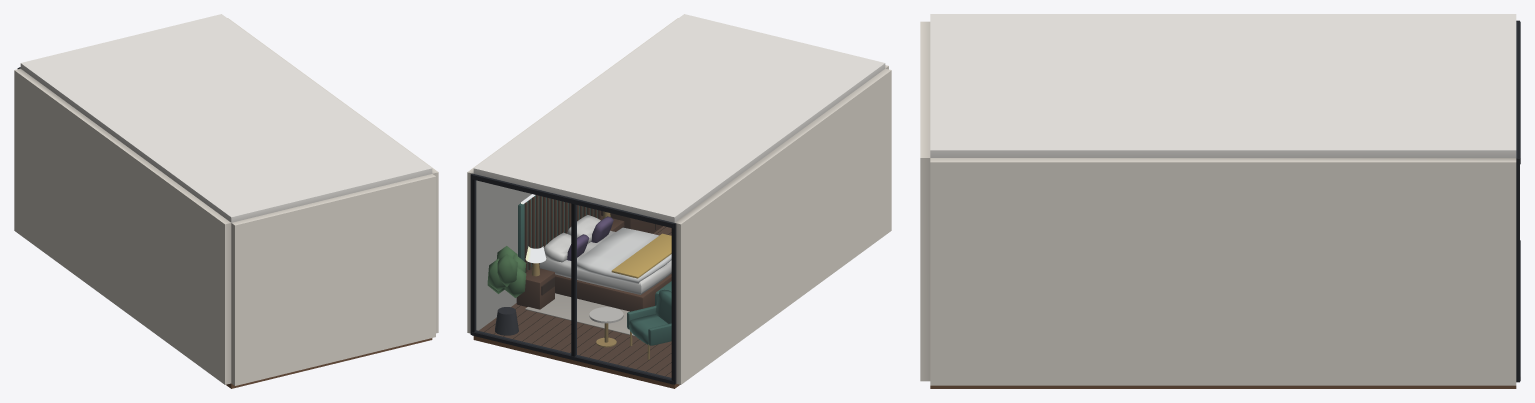
Rendered from os-standard.glb.
3 views of the same model, side by side, from view 1: azimuth 30°, elevation 25°; view 2: azimuth 150°, elevation 25°; view 3: azimuth 270°, elevation 25° (orthographic). The views are drawn at different scales.
Parts seen in each view (by area): view 1: Room_wall, Room_ceiling, Room_floor; view 2: Room_ceiling, Room_wall, Room_glass, Room_floor, Room_wood, Room_frameDark, Room_linen, Room_duvet, Room_fabric2, Room_leaf, Room_rug, Room_throw (+6 smaller); view 3: Room_wall, Room_ceiling, Room_floor, Room_frameDark.
Part boxes in pixels (x1=…): Room_wall: x1=14, y1=18, x2=438, y2=385; Room_ceiling: x1=20, y1=14, x2=432, y2=222; Room_floor: x1=226, y1=338, x2=432, y2=388; Room_ceiling: x1=473, y1=14, x2=885, y2=222; Room_wall: x1=467, y1=18, x2=891, y2=384; Room_glass: x1=475, y1=181, x2=670, y2=378; Room_floor: x1=473, y1=226, x2=679, y2=388; Room_wood: x1=516, y1=195, x2=671, y2=311; Room_frameDark: x1=470, y1=173, x2=676, y2=384; Room_linen: x1=539, y1=215, x2=671, y2=294; Room_duvet: x1=577, y1=227, x2=671, y2=283; Room_fabric2: x1=627, y1=281, x2=671, y2=345; Room_leaf: x1=487, y1=246, x2=526, y2=297; Room_rug: x1=525, y1=293, x2=634, y2=336; Room_throw: x1=611, y1=233, x2=671, y2=278; Room_wall: x1=920, y1=21, x2=1516, y2=385; Room_ceiling: x1=930, y1=14, x2=1516, y2=157; Room_floor: x1=930, y1=385, x2=1516, y2=388; Room_frameDark: x1=1516, y1=20, x2=1520, y2=382.
Size of the model in its own units: 4.04 by 3.1 by 7.07.
